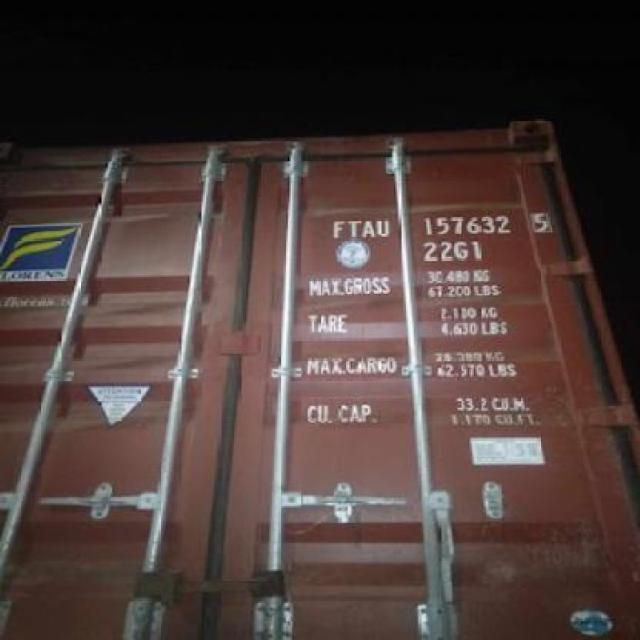ISO: (422, 238, 486, 264)
container_number: (348, 206, 542, 237)
